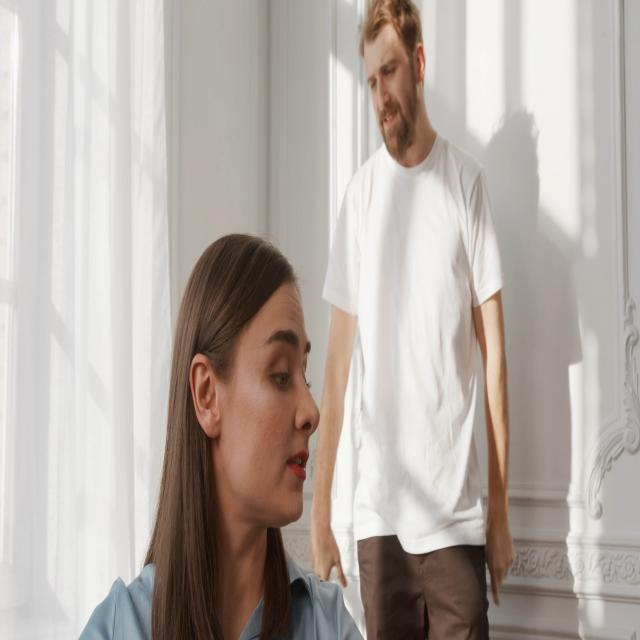satisfied: (189, 248, 345, 546)
stress: (338, 0, 444, 193)
